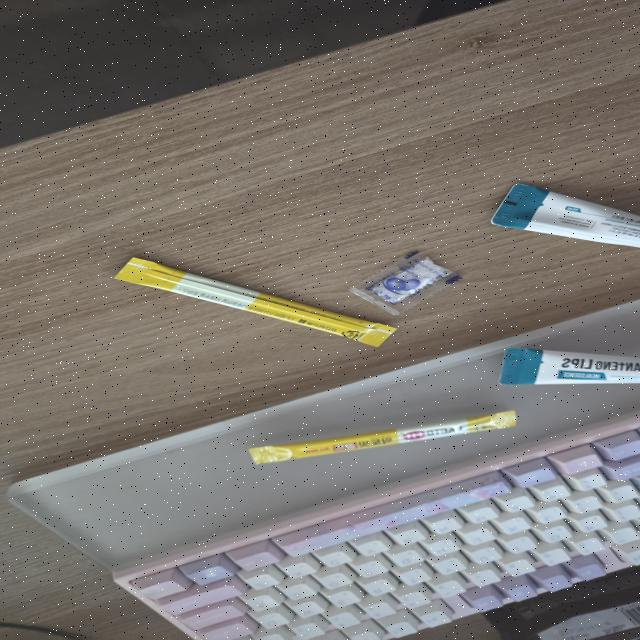lacto: (112, 255, 405, 348), (246, 410, 518, 466)
lib: (491, 182, 640, 249), (499, 342, 640, 387)
salt: (349, 248, 464, 315)
